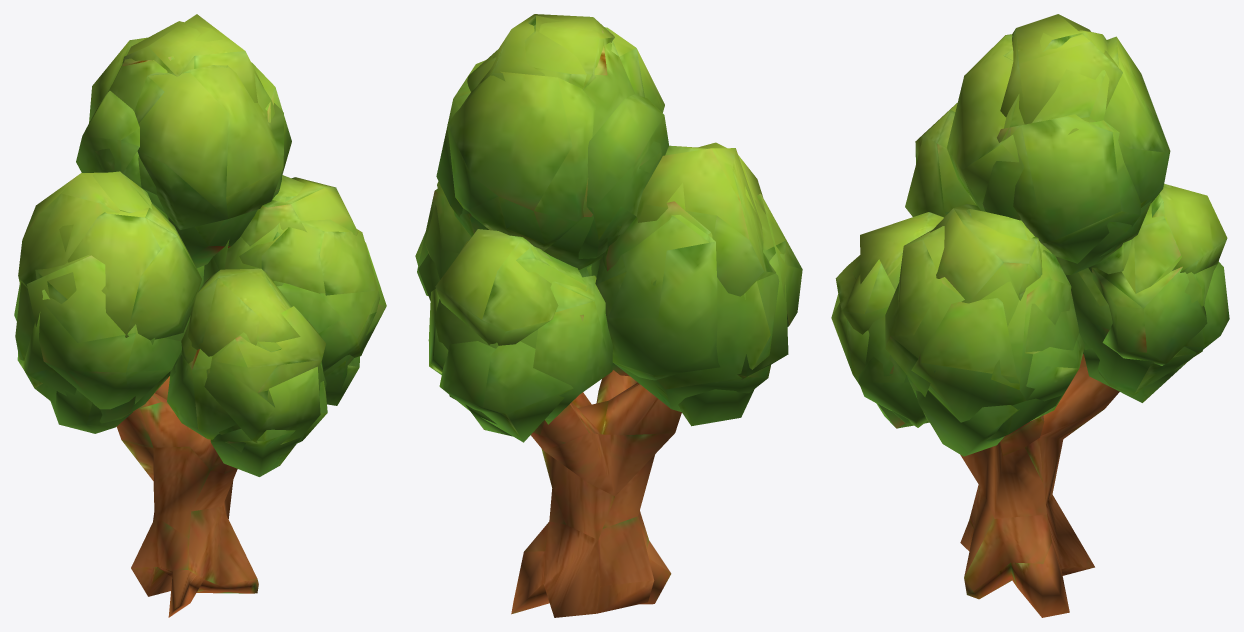
The model's file is tree_broad.glb.
The picture shows the model from 3 angles, left to right: view 1: azimuth 30°, elevation 25°; view 2: azimuth 150°, elevation 25°; view 3: azimuth 270°, elevation 25°; orthographic projection. The views are drawn at different scales.
Size of the model in its own units: 0.6303 by 0.9809 by 0.6258.
Materials: 1 (1 with a texture image).
